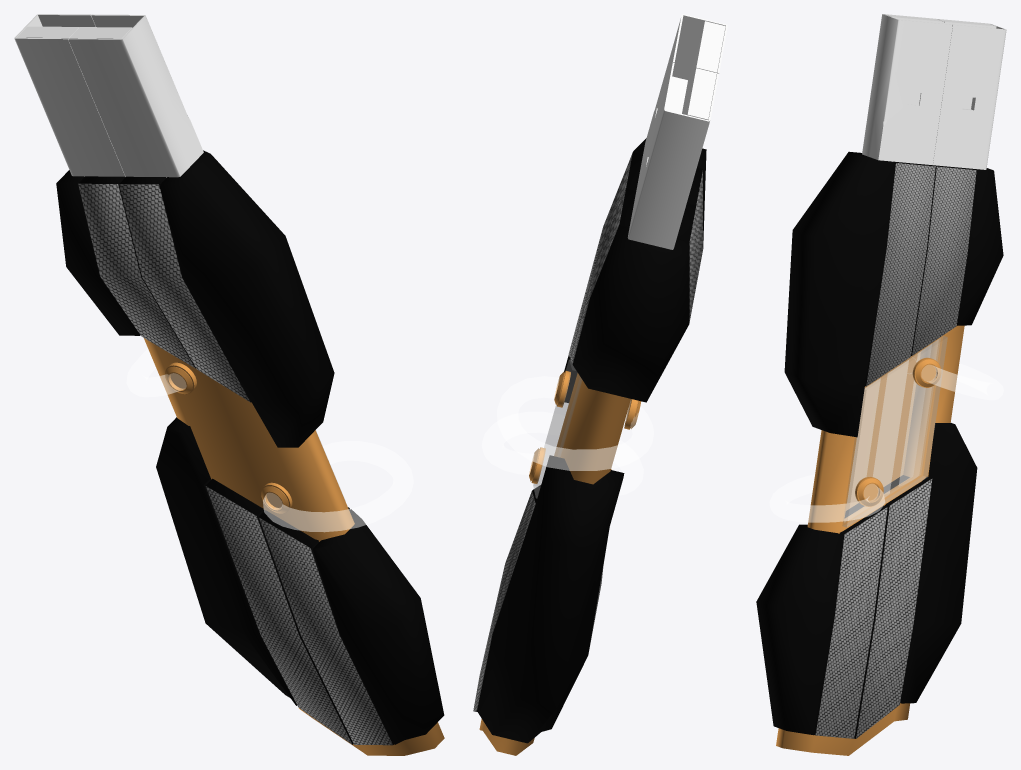
Rendered from USB.glb.
3 renders of one model, left to right at view 1: azimuth 30°, elevation 25°; view 2: azimuth 150°, elevation 25°; view 3: azimuth 270°, elevation 25°, orthographic. The views are drawn at different scales.
Visible parts, largest first — view 1: Cube.002, Cube.003, Cube, Cube.001, BezierCurve.001, BezierCurve, Cylinder.006, Cylinder.005; view 2: Cube.003, Cube.002, Cube, Cube.001, BezierCurve, BezierCurve.001, Cube.004; view 3: Cube.003, Cube.002, Cube, Cube.001, Cube.004, BezierCurve.001, Cylinder.002, BezierCurve, Cylinder.003, Cylinder.004, Cylinder, Cylinder.001.
Boxes of the visible parts, box(x1,y1,x2,y2) form: Cube.002: box(56, 150, 334, 447); Cube.003: box(156, 417, 444, 745); Cube: box(14, 14, 203, 177); Cube.001: box(144, 338, 444, 755); BezierCurve.001: box(263, 441, 413, 531); BezierCurve: box(126, 349, 186, 396); Cylinder.006: box(165, 362, 196, 394); Cylinder.005: box(261, 482, 292, 513); Cube.003: box(473, 455, 624, 743); Cube.002: box(564, 138, 706, 402); Cube: box(627, 14, 727, 249); Cube.001: box(479, 373, 630, 755); BezierCurve: box(497, 376, 653, 470); BezierCurve.001: box(482, 412, 643, 495); Cube.004: box(533, 360, 581, 498); Cube.003: box(756, 423, 977, 738); Cube.002: box(784, 151, 1003, 437); Cube: box(862, 14, 1006, 169); Cube.001: box(776, 325, 964, 755); Cube.004: box(842, 336, 947, 527); BezierCurve.001: box(769, 474, 884, 522); Cylinder.002: box(873, 360, 908, 494); BezierCurve: box(921, 363, 1003, 399); Cylinder.003: box(847, 378, 880, 502); Cylinder.004: box(899, 344, 931, 485); Cylinder: box(912, 357, 941, 387); Cylinder.001: box(855, 476, 883, 506).
Size of the model in its own units: 0.1675 by 0.3817 by 0.1327.
Materials: 7 (1 with a texture image).
